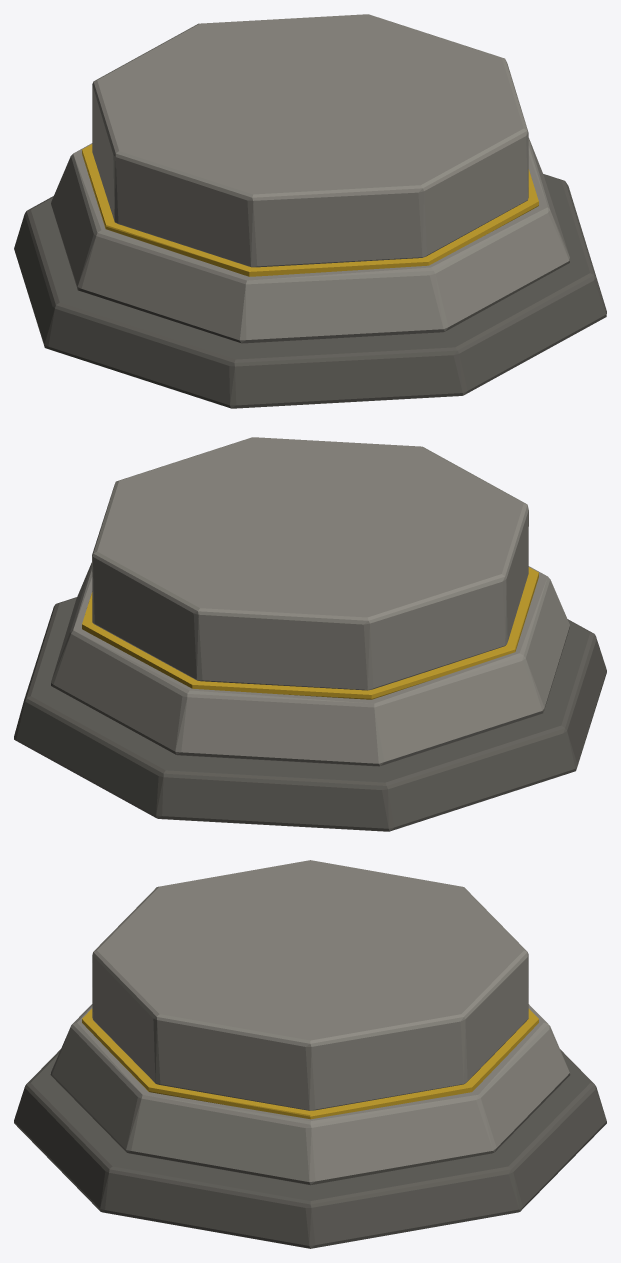
Rendered from prop_pedestal_lod1.glb.
The picture shows the model from 3 angles, top to bottom: view 1: azimuth 30°, elevation 25°; view 2: azimuth 150°, elevation 25°; view 3: azimuth 270°, elevation 25°; orthographic projection. The views are drawn at different scales.
Parts seen in each view (by area): view 1: prop_pedestal_lod1; view 2: prop_pedestal_lod1; view 3: prop_pedestal_lod1.
Boxes of the visible parts, x1,y1,x2,y2 form: prop_pedestal_lod1: (14, 14, 606, 408); prop_pedestal_lod1: (14, 437, 606, 831); prop_pedestal_lod1: (14, 860, 606, 1248).
Size of the model in its own units: 0.8925 by 0.29 by 0.8925.
